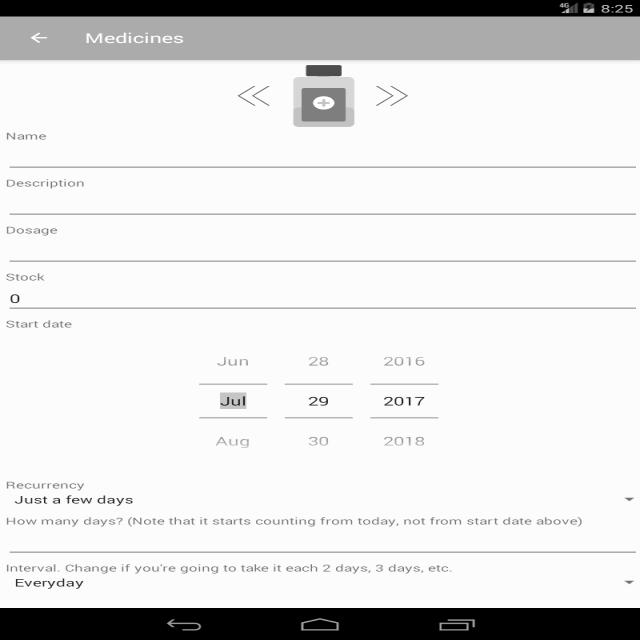EditText: (2, 270, 624, 312), (2, 222, 620, 264), (1, 177, 610, 217), (2, 127, 274, 173)
ImageButton: (25, 27, 52, 45)
ImageView: (284, 61, 366, 131)
TextView: (2, 512, 592, 530), (4, 557, 458, 575), (78, 30, 196, 46), (370, 348, 440, 369), (4, 478, 97, 490), (296, 349, 341, 371), (214, 352, 262, 371), (301, 428, 339, 451)
